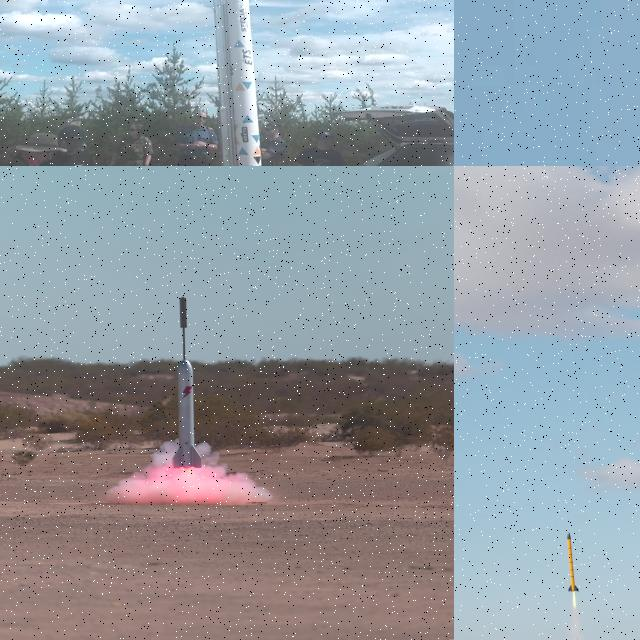Rocket: (223, 0, 263, 166), (165, 354, 211, 477), (567, 532, 579, 592)
